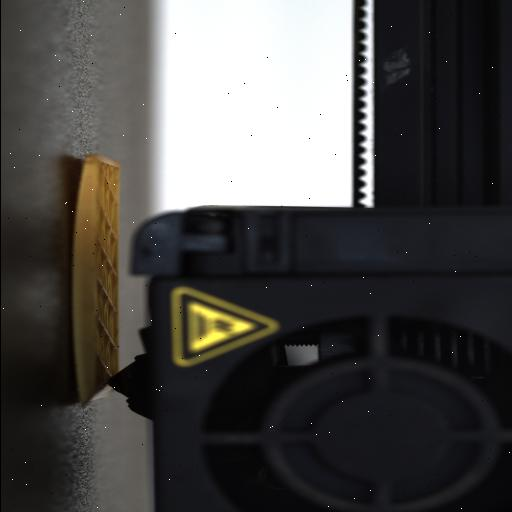warp: (73, 152, 99, 208)
